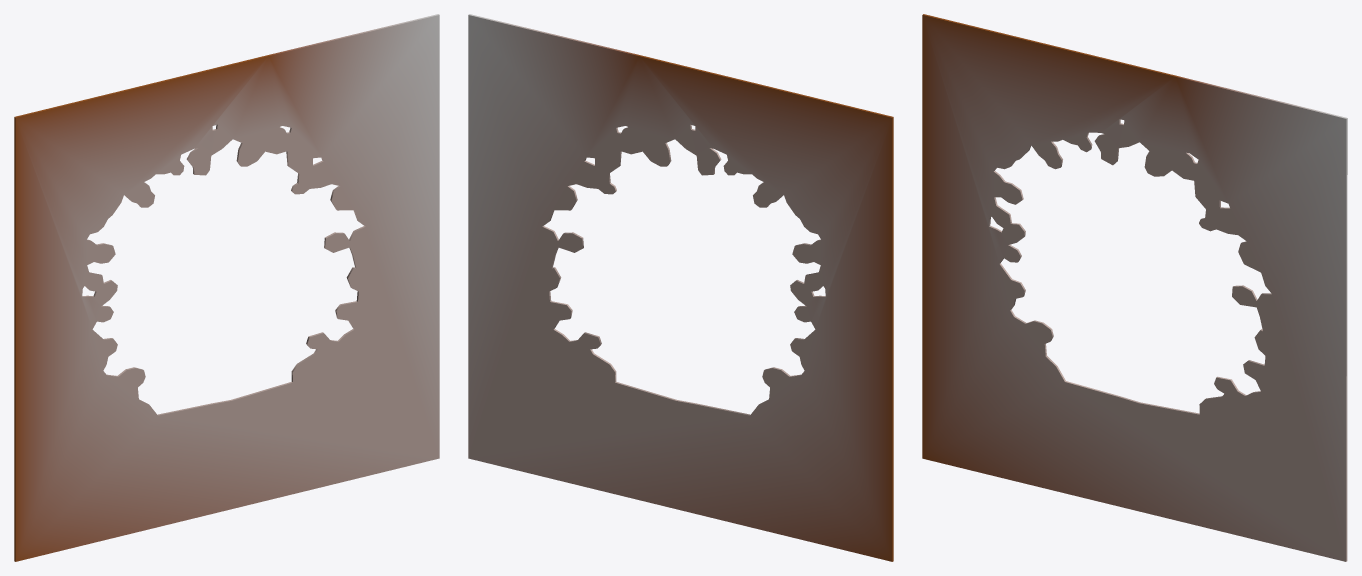
Rendered from fall_3b.fbx.
3 views of the same model, side by side, from view 1: azimuth 30°, elevation 25°; view 2: azimuth 150°, elevation 25°; view 3: azimuth 330°, elevation 25° (orthographic).
Parts seen in each view (by area): view 1: fall_3b; view 2: fall_3b; view 3: fall_3b.
Boxes of the visible parts, box(x1,y1,x2,y2) form: fall_3b: box(14, 14, 439, 561); fall_3b: box(468, 14, 893, 561); fall_3b: box(922, 14, 1347, 561).
Size of the model in its own units: 198 by 198 by 1.
